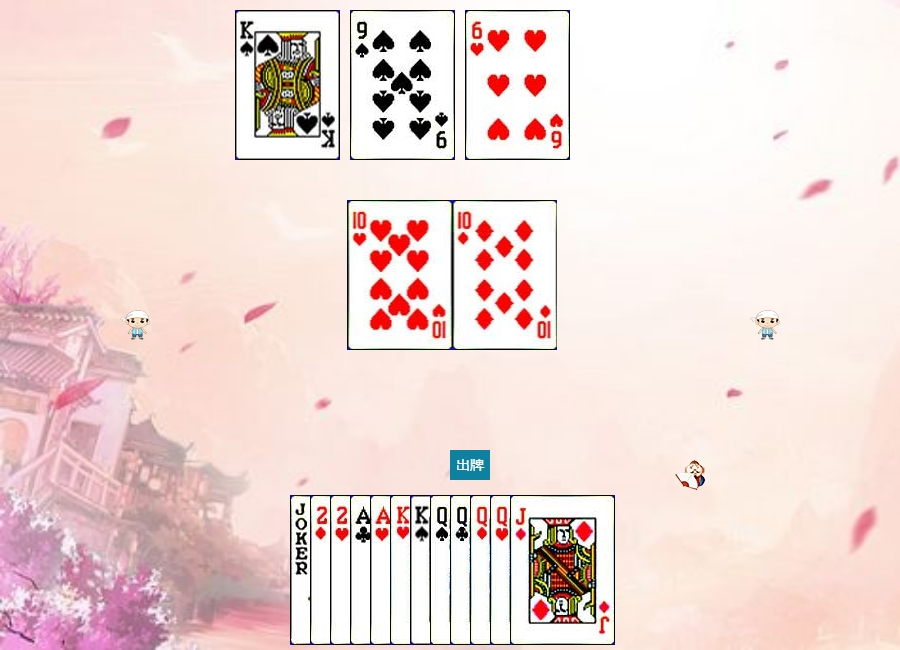10~1: (453, 200, 558, 350)
10~3: (348, 200, 453, 350)
11~1: (510, 495, 615, 645)
12~1: (470, 495, 575, 645)
12~2: (450, 495, 555, 645)
12~3: (490, 495, 595, 645)
12~4: (430, 495, 535, 645)
13~3: (390, 495, 495, 645)
13~4: (235, 10, 340, 160), (410, 495, 515, 645)
14~2: (350, 495, 455, 645)
14~3: (370, 495, 475, 645)
15~1: (310, 495, 415, 645)
15~3: (330, 495, 435, 645)
17~3: (290, 495, 395, 645)
6~3: (465, 10, 570, 160)
9~4: (350, 10, 455, 160)
